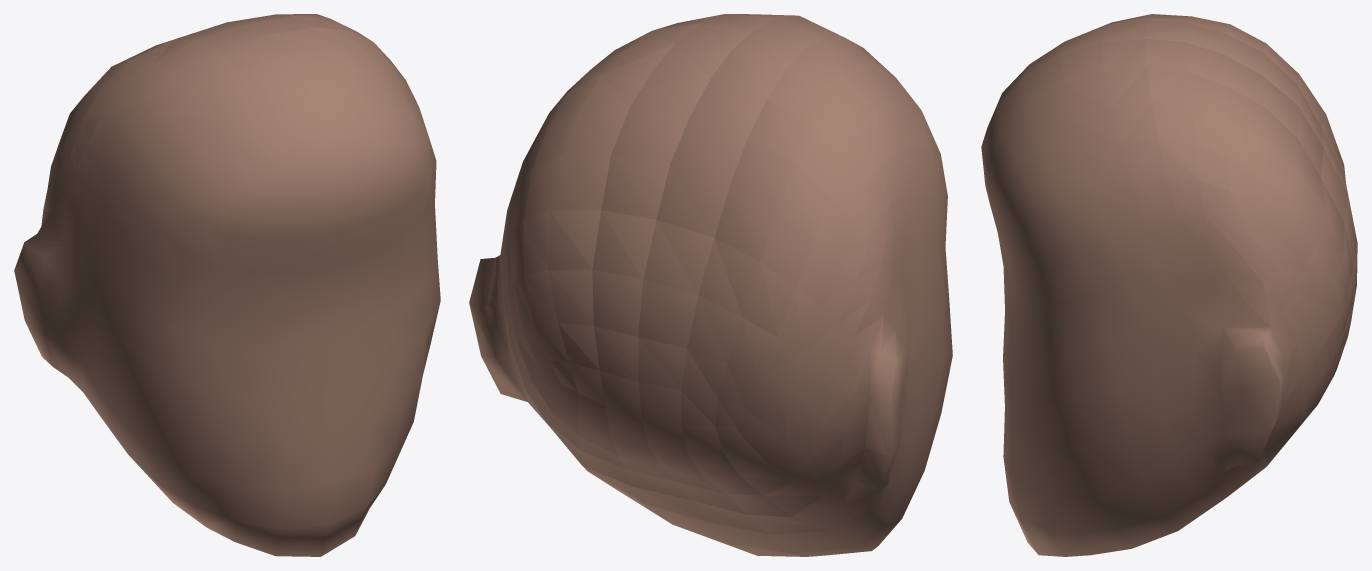
File: headOccluder_01.glb
3 renders of one model, left to right at view 1: azimuth 30°, elevation 25°; view 2: azimuth 150°, elevation 25°; view 3: azimuth 270°, elevation 25°, orthographic. The views are drawn at different scales.
Parts seen in each view (by area): view 1: Model; view 2: Model; view 3: Model.
Part boxes in pixels (x1,y1,x2,y2): Model: [14, 14, 440, 556]; Model: [469, 14, 952, 556]; Model: [981, 14, 1357, 556].
Size of the model in its own units: 16.88 by 20.88 by 14.14.
